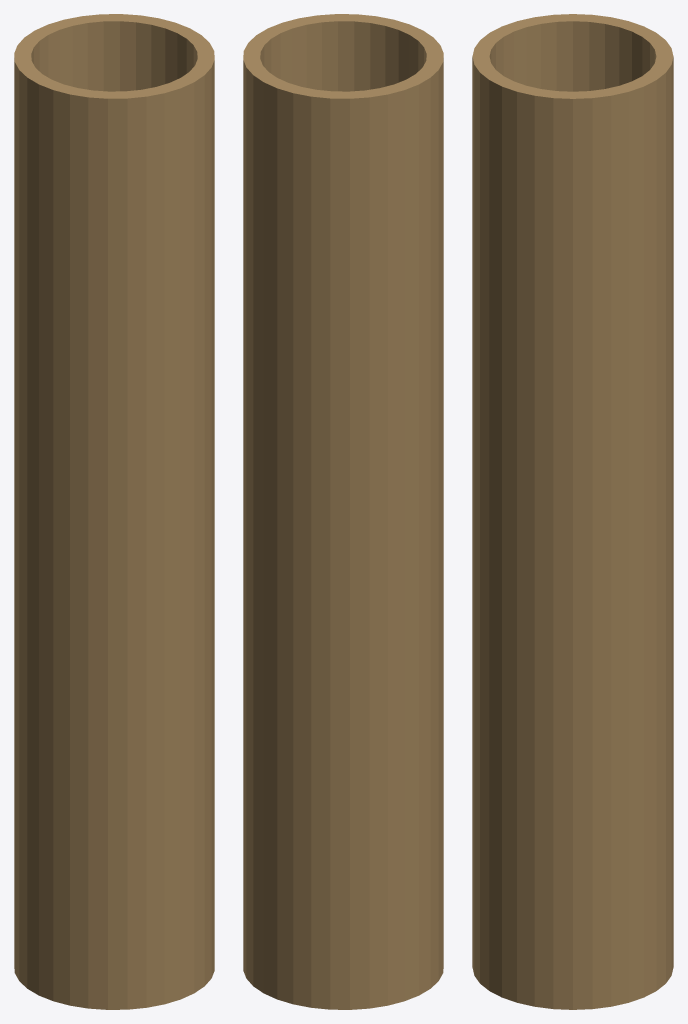
File: CakeTube2.fbx
3 renders of one model, left to right at view 1: azimuth 30°, elevation 25°; view 2: azimuth 150°, elevation 25°; view 3: azimuth 270°, elevation 25°, orthographic.
Visible parts, largest first — view 1: Cylinder.001; view 2: Cylinder.001; view 3: Cylinder.001.
Part boxes in pixels (x1=…): Cylinder.001: x1=14, y1=14, x2=214, y2=1009; Cylinder.001: x1=243, y1=14, x2=443, y2=1009; Cylinder.001: x1=472, y1=14, x2=673, y2=1009.
Bounding box in the file's own units: 0.04 × 0.2 × 0.04.
